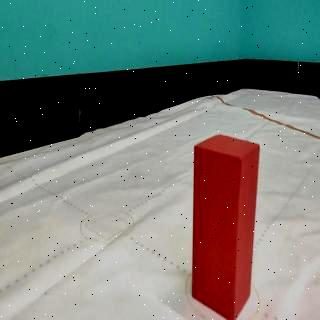redbox: (192, 133, 262, 320)
